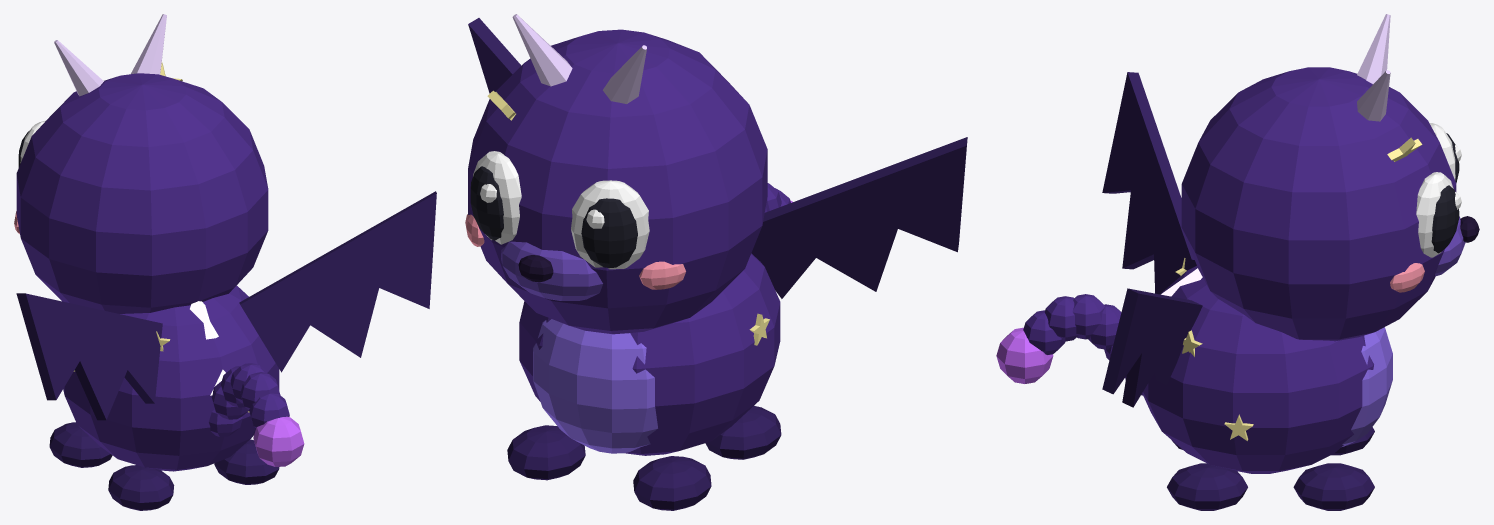
The model's file is GalaxyDragon.fbx.
3 views of the same model, side by side, from view 1: azimuth 30°, elevation 25°; view 2: azimuth 150°, elevation 25°; view 3: azimuth 270°, elevation 25° (orthographic). The views are drawn at different scales.
Visible parts, largest first — view 1: Pet_4A2A8A, Pet_2E1A5A, Pet_E8D2FF_Neon, Pet_C86AFF, Pet_C86AFF_Neon; view 2: Pet_4A2A8A, Pet_2E1A5A, Pet_8A6AE8, Pet_FFFFFF, Pet_1E1E2A, Pet_6A4AB8, Pet_E8D2FF_Neon, Pet_FF9AAE, Pet_1A0E30, Pet_FFF2A0_Neon; view 3: Pet_4A2A8A, Pet_2E1A5A, Pet_8A6AE8, Pet_E8D2FF_Neon, Pet_FFFFFF, Pet_C86AFF, Pet_1E1E2A, Pet_FFF2A0_Neon, Pet_6A4AB8, Pet_FF9AAE.
Boxes of the visible parts, x1,y1,x2,y2 form: Pet_4A2A8A: [16, 73, 289, 471]; Pet_2E1A5A: [16, 191, 436, 510]; Pet_E8D2FF_Neon: [54, 14, 166, 96]; Pet_C86AFF: [253, 416, 304, 466]; Pet_C86AFF_Neon: [190, 301, 225, 395]; Pet_4A2A8A: [468, 29, 790, 455]; Pet_2E1A5A: [468, 18, 967, 510]; Pet_8A6AE8: [533, 319, 657, 453]; Pet_FFFFFF: [473, 151, 649, 269]; Pet_1E1E2A: [470, 166, 637, 267]; Pet_6A4AB8: [501, 241, 602, 300]; Pet_E8D2FF_Neon: [512, 14, 646, 103]; Pet_FF9AAE: [465, 214, 685, 289]; Pet_1A0E30: [518, 255, 553, 282]; Pet_FFF2A0_Neon: [487, 90, 769, 345]; Pet_4A2A8A: [1023, 67, 1456, 473]; Pet_2E1A5A: [1102, 72, 1374, 510]; Pet_8A6AE8: [1342, 327, 1392, 446]; Pet_E8D2FF_Neon: [1357, 14, 1390, 121]; Pet_FFFFFF: [1416, 123, 1461, 257]; Pet_C86AFF: [996, 327, 1053, 383]; Pet_1E1E2A: [1431, 133, 1459, 253]; Pet_FFF2A0_Neon: [1175, 137, 1422, 440]; Pet_6A4AB8: [1435, 216, 1465, 276]; Pet_FF9AAE: [1390, 263, 1424, 292].
Bounding box in the file's own units: 2.06 × 1.9 × 1.91.
